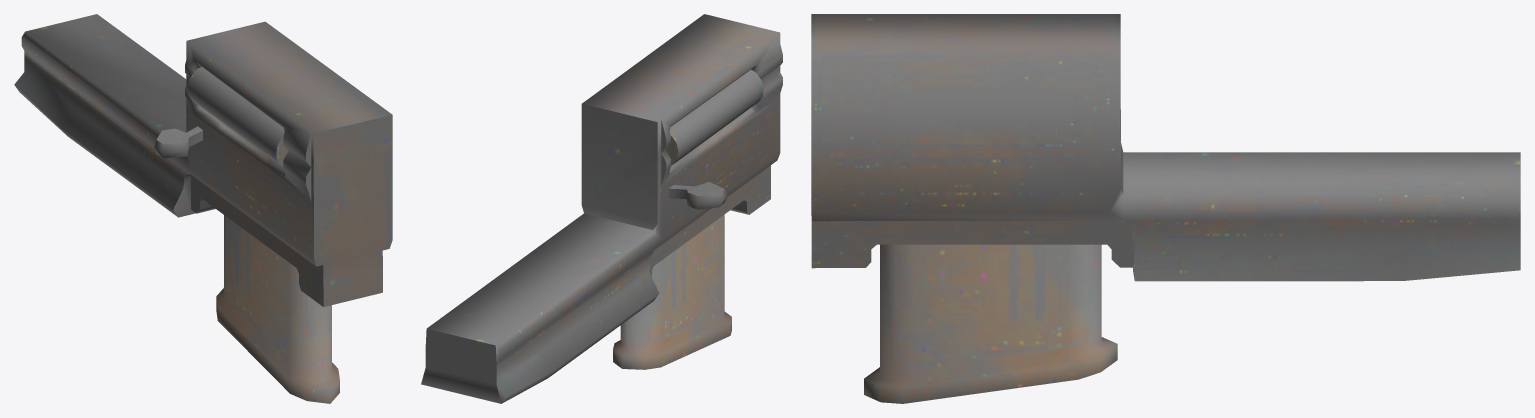
File: mag3.obj
3 views of the same model, side by side, from view 1: azimuth 30°, elevation 25°; view 2: azimuth 150°, elevation 25°; view 3: azimuth 270°, elevation 25° (orthographic). The views are drawn at different scales.
Parts seen in each view (by area): view 1: mag3; view 2: mag3; view 3: mag3.
Boxes of the visible parts, x1,y1,x2,y2 form: mag3: [14, 14, 392, 403]; mag3: [421, 14, 782, 403]; mag3: [811, 14, 1520, 403].
Bounding box in the file's own units: 8.11 × 17.47 × 31.35.
